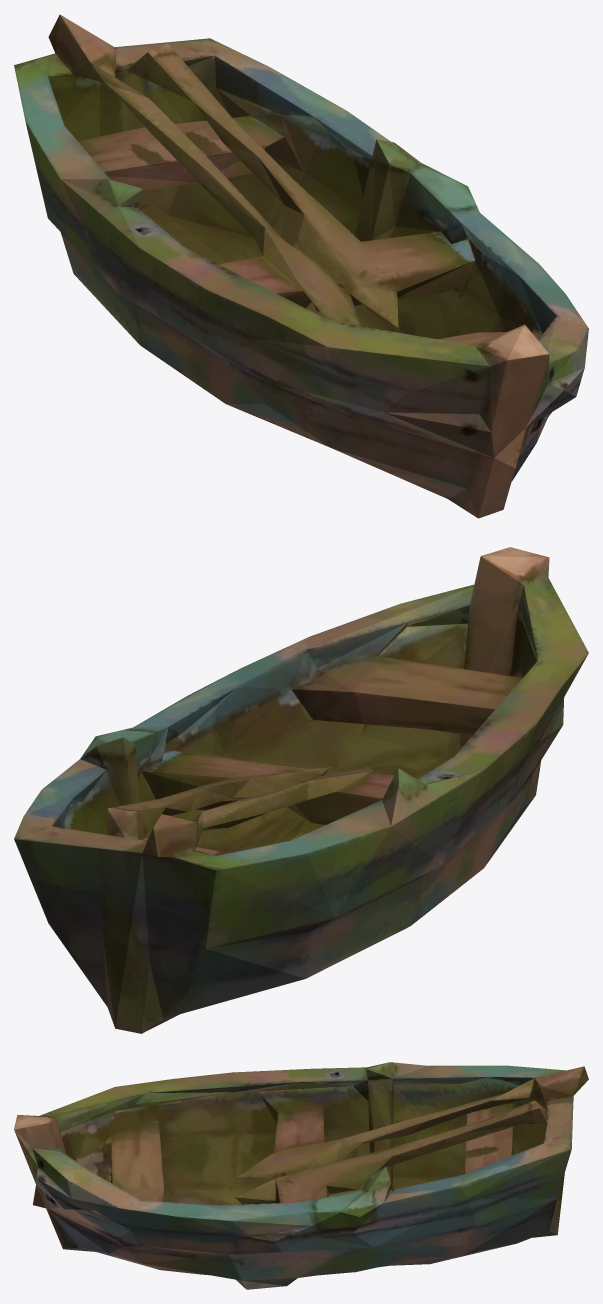
Rendered from rowboat.glb.
3 renders of one model, top to bottom at view 1: azimuth 30°, elevation 25°; view 2: azimuth 150°, elevation 25°; view 3: azimuth 270°, elevation 25°, orthographic. The views are drawn at different scales.
Parts seen in each view (by area): view 1: rowboat; view 2: rowboat; view 3: rowboat.
Boxes of the visible parts, x1=… form: rowboat: x1=14, y1=14, x2=588, y2=518; rowboat: x1=14, y1=547, x2=588, y2=1033; rowboat: x1=14, y1=1062, x2=588, y2=1289.
Bounding box in the file's own units: 1.69 × 1.21 × 3.5.
1 material, 1 textured.
